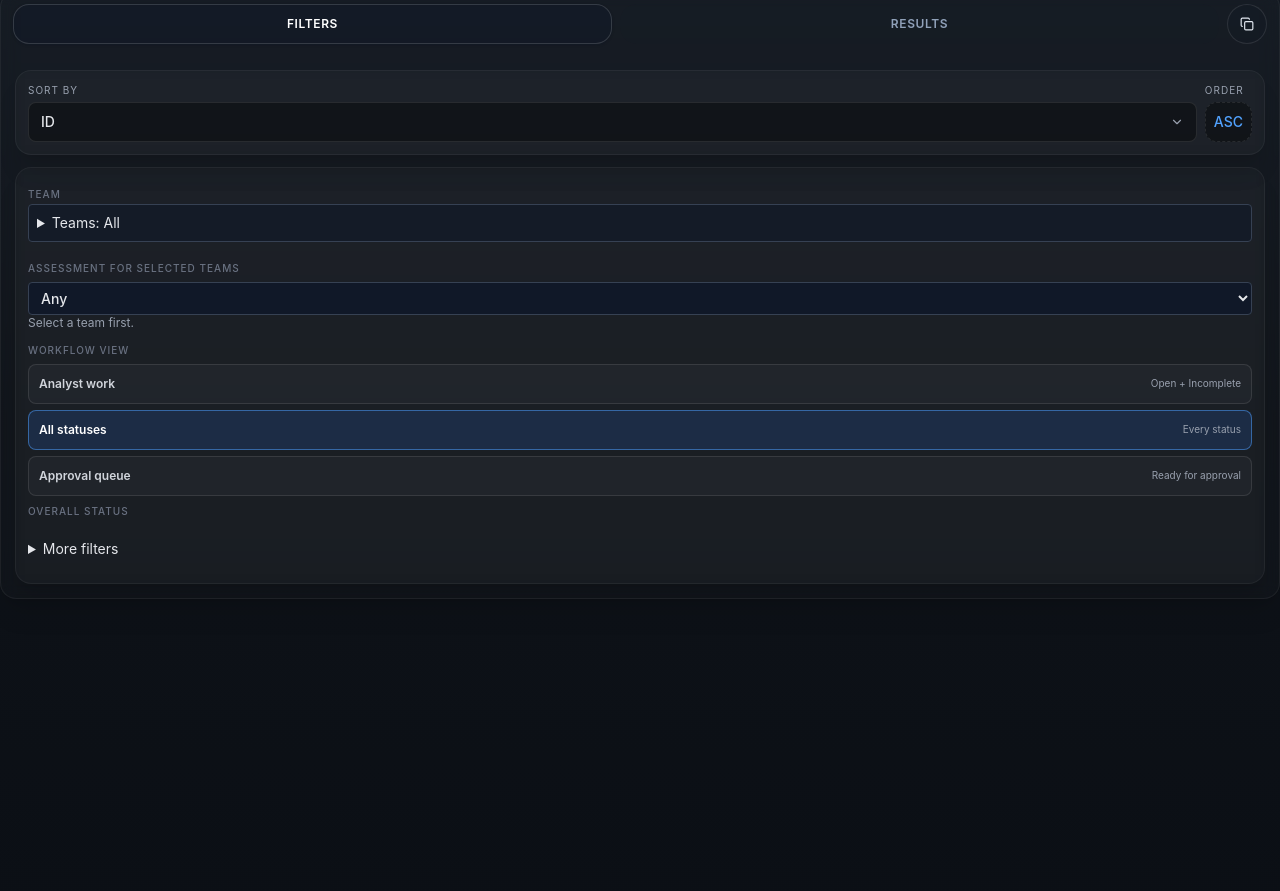
it: StatsSidebar team filter › shows parent-group and subgroup statistics at the same time
Click the button "Results". click: x=920, y=24
box: x1=620 y1=4 x2=1219 y2=44
(page scrolled)
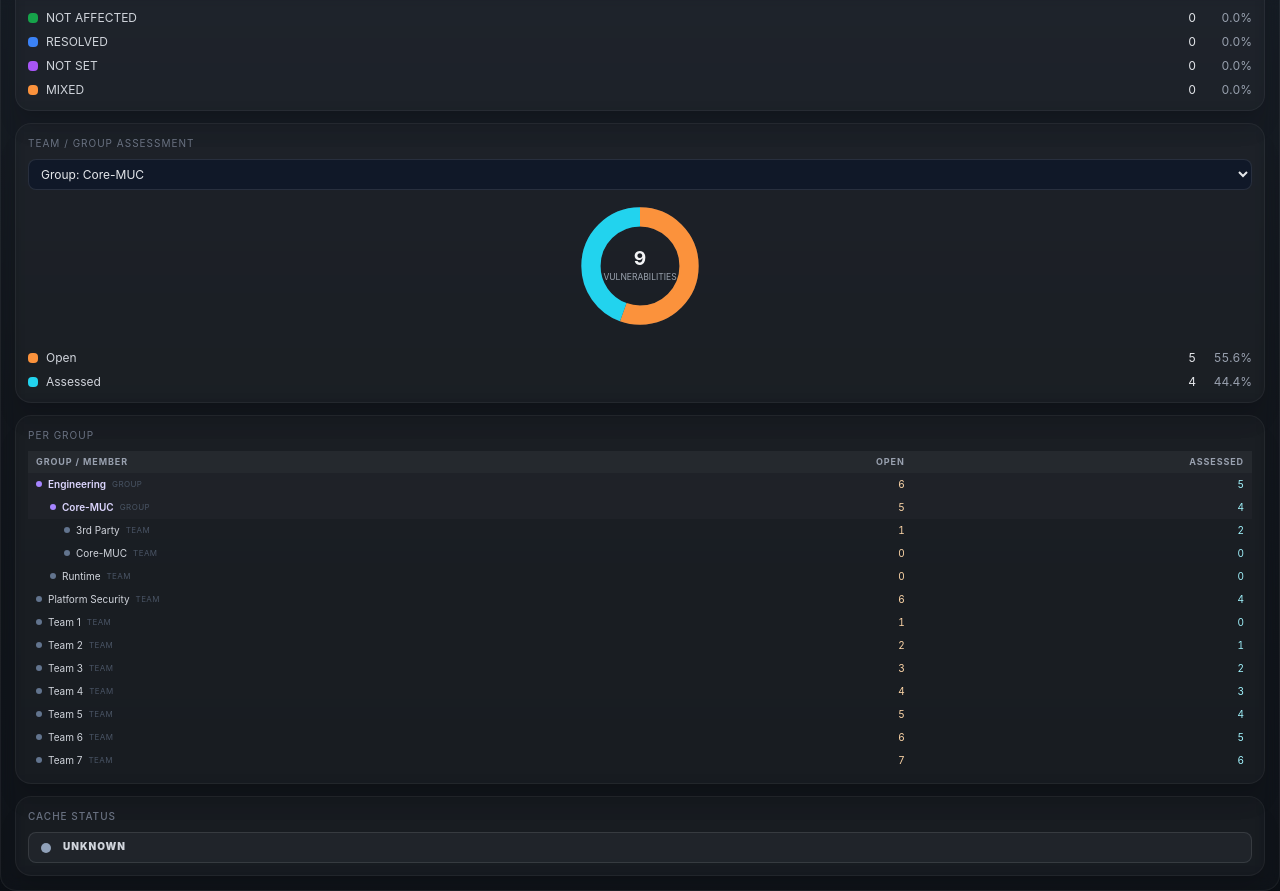
Now the cells read "Core-MUCgroup", "5", "4", in this order, box x1=28 y1=496 x2=698 y2=518; x1=698 y1=496 x2=913 y2=518; x1=913 y1=496 x2=1252 y2=518
Now the cells read "3rd Partyteam", "1", "2", in this order, box x1=28 y1=518 x2=698 y2=542; x1=698 y1=518 x2=913 y2=542; x1=913 y1=518 x2=1252 y2=542
